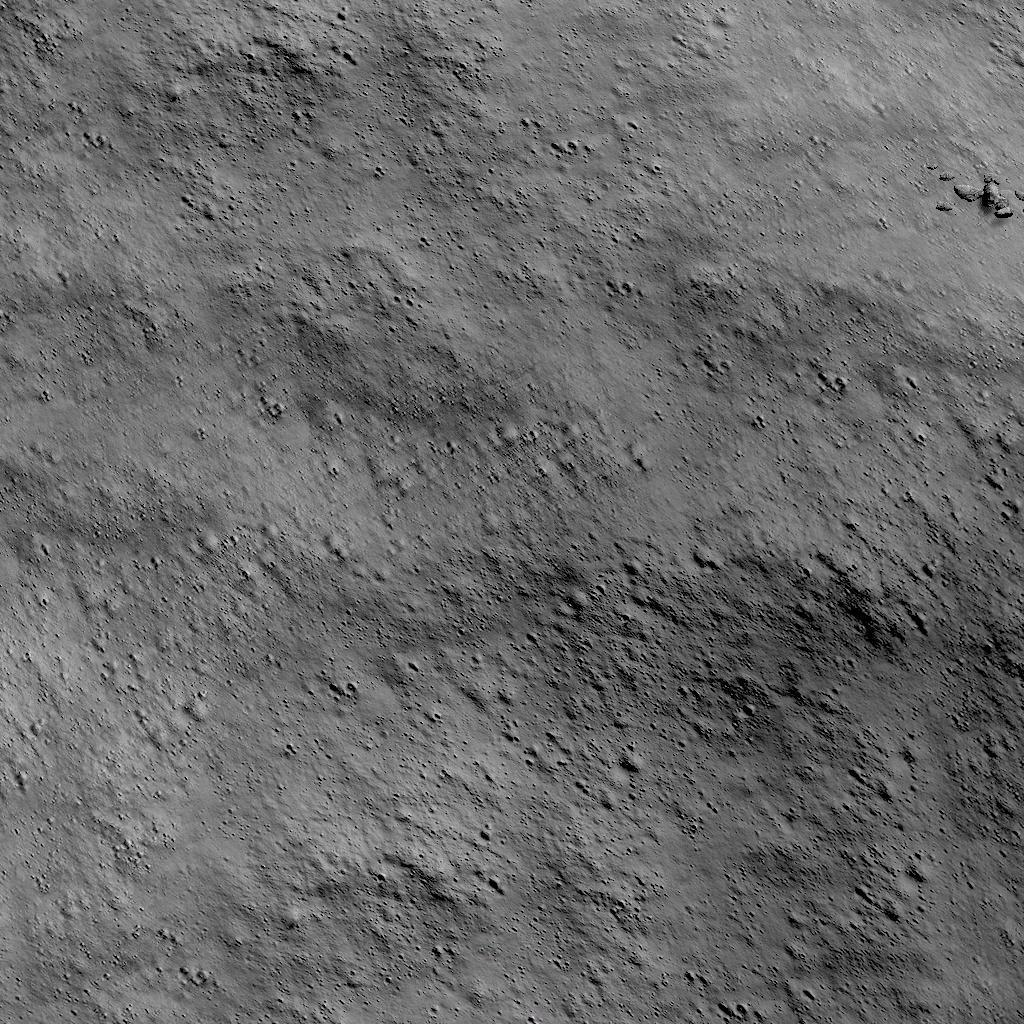Plan surface: (0, 248, 1024, 1024), (0, 0, 915, 230)
